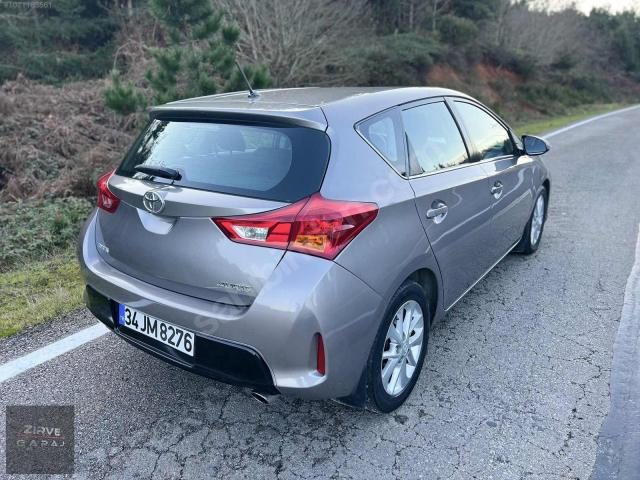plaka: (120, 304, 194, 356)
